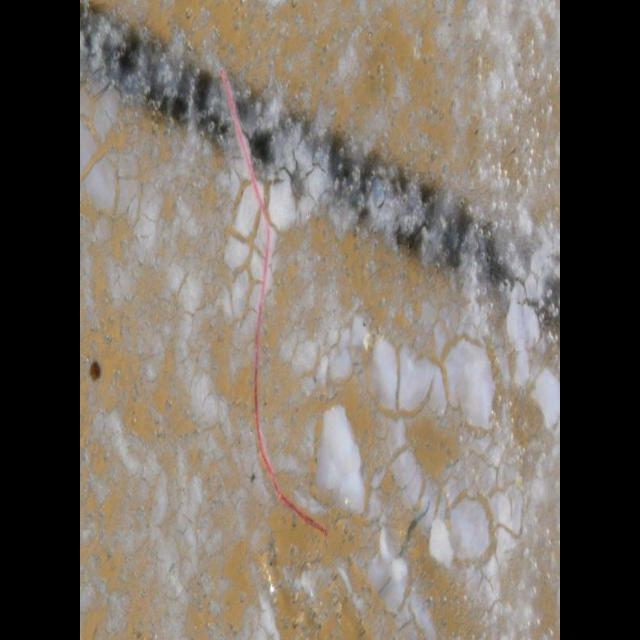Fibre: (212, 56, 334, 550)
